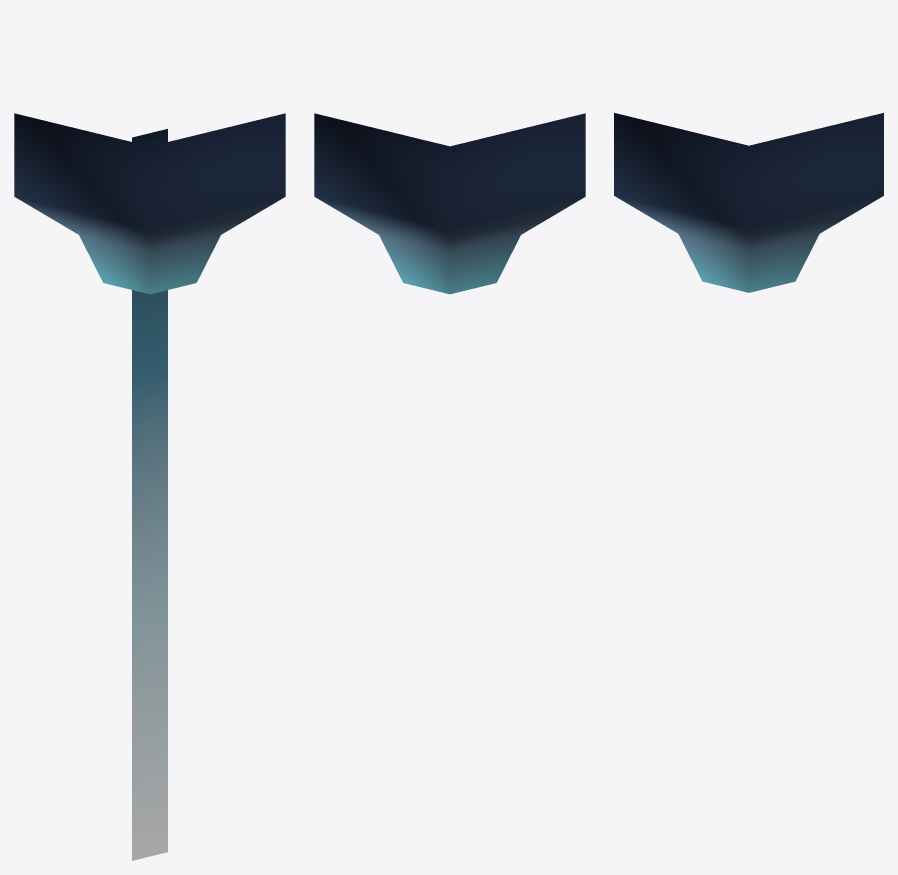
Rendered from ChandelierBase.gltf.
The picture shows the model from 3 angles, left to right: view 1: azimuth 30°, elevation 25°; view 2: azimuth 150°, elevation 25°; view 3: azimuth 270°, elevation 25°; orthographic projection.
Visible parts, largest first — view 1: ChandelierBaseMesh; view 2: ChandelierBaseMesh; view 3: ChandelierBaseMesh.
Boxes of the visible parts, box(x1,y1,x2,y2) form: ChandelierBaseMesh: box(14, 113, 285, 860); ChandelierBaseMesh: box(314, 113, 585, 294); ChandelierBaseMesh: box(614, 113, 883, 292).
Bounding box in the file's own units: 5.89 × 16.1 × 5.1.
